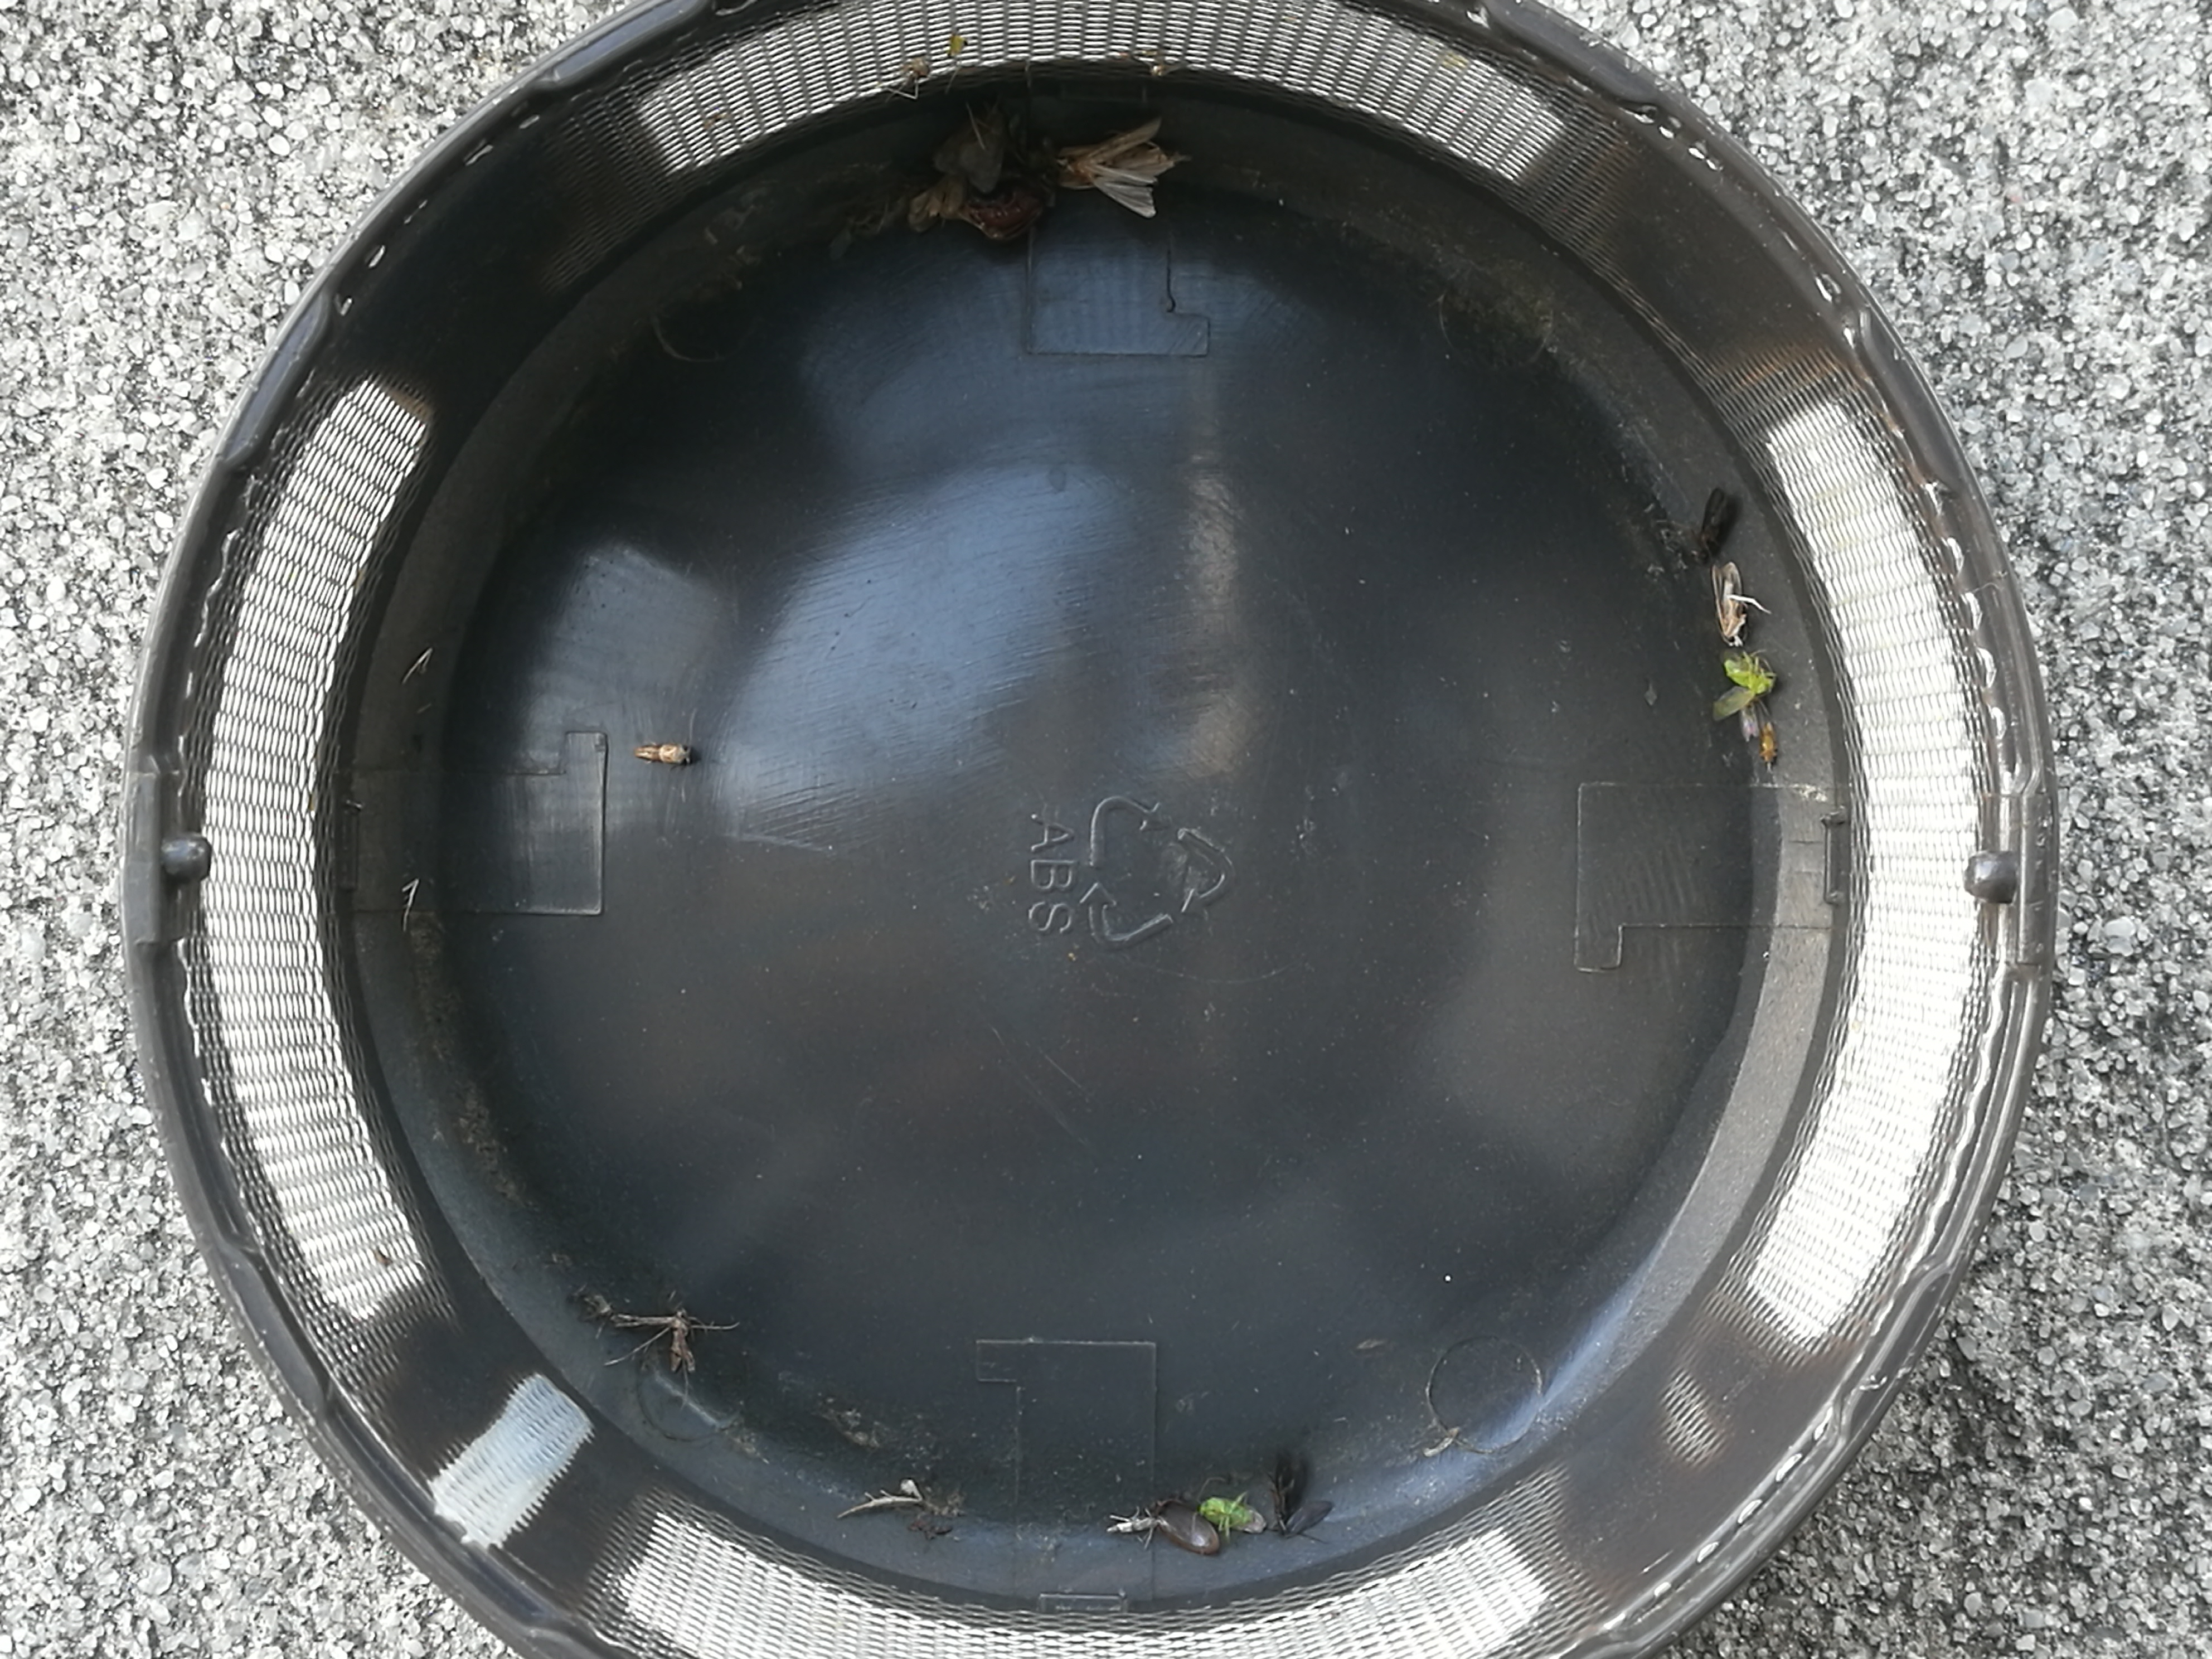beetle: (965, 138, 1054, 242)
mosquito: (1696, 488, 1733, 561), (1712, 563, 1743, 643)
moth: (1080, 119, 1155, 214), (934, 98, 1000, 193)
